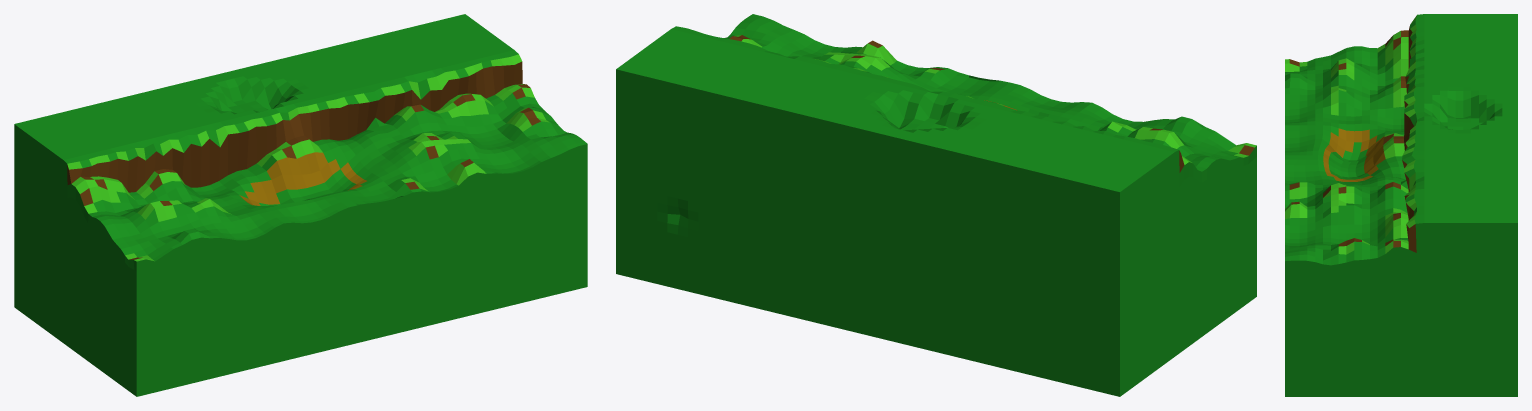
File: sol3.FBX
3 views of the same model, side by side, from view 1: azimuth 30°, elevation 25°; view 2: azimuth 150°, elevation 25°; view 3: azimuth 270°, elevation 25° (orthographic). The views are drawn at different scales.
Parts seen in each view (by area): view 1: Box001; view 2: Box001; view 3: Box001.
Boxes of the visible parts, x1,y1,x2,y2 form: Box001: (14,14,587,396); Box001: (616,14,1256,396); Box001: (1285,14,1517,396).
Bounding box in the file's own units: 152 × 59.09 × 71.67.
